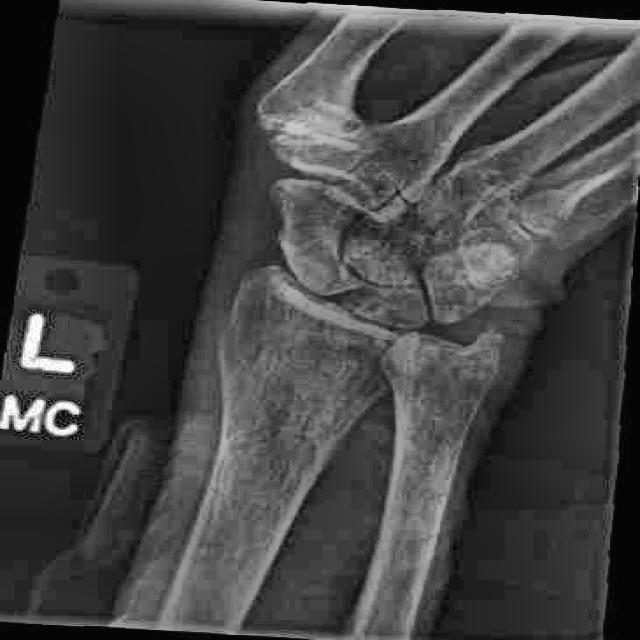wrist positive: (201, 296, 522, 404)
